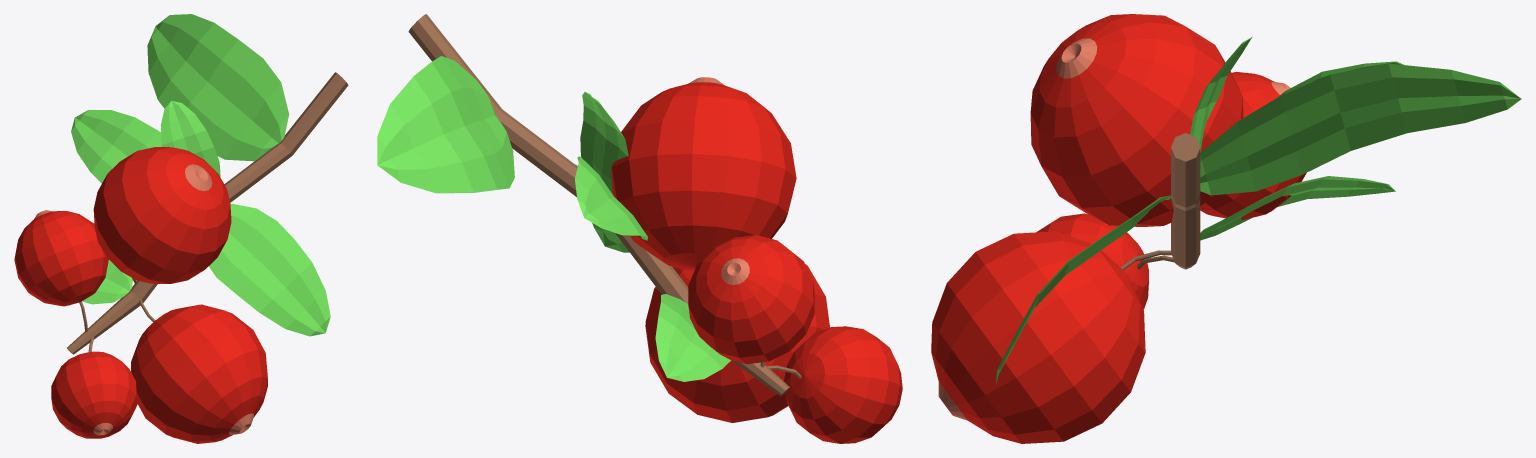
The model's file is Cranberry.fbx.
3 views of the same model, side by side, from view 1: azimuth 30°, elevation 25°; view 2: azimuth 150°, elevation 25°; view 3: azimuth 270°, elevation 25° (orthographic). The views are drawn at different scales.
Parts seen in each view (by area): view 1: Sphere.002, Sphere, Circle.002, Circle.003, Sphere.003, Sphere.001, Cylinder, Circle.005, Circle.004, Circle.006; view 2: Sphere.002, Circle.002, Sphere.003, Sphere.001, Sphere, Cylinder, Circle.006, Circle.004, Circle.005; view 3: Sphere, Sphere.002, Circle.002, Cylinder, Sphere.003, Circle.006, Sphere.001, Circle.003, Circle.004.
Boxes of the visible parts, x1,y1,x2,y2 form: Sphere.002: (93, 147, 231, 283); Sphere: (131, 304, 267, 443); Circle.002: (147, 14, 289, 161); Circle.003: (208, 203, 330, 336); Sphere.003: (14, 210, 108, 306); Sphere.001: (51, 351, 137, 438); Cylinder: (67, 72, 348, 354); Circle.005: (71, 110, 161, 183); Circle.004: (160, 100, 220, 176); Circle.006: (82, 260, 132, 304); Sphere.002: (611, 77, 796, 270); Circle.002: (377, 56, 514, 193); Sphere.003: (688, 235, 814, 364); Sphere.001: (783, 326, 902, 443); Sphere: (645, 264, 829, 422); Cylinder: (408, 14, 789, 396); Circle.006: (655, 294, 730, 381); Circle.004: (580, 92, 628, 194); Circle.005: (575, 156, 647, 240); Sphere: (931, 231, 1145, 443); Sphere.002: (1030, 14, 1243, 226); Circle.002: (1200, 63, 1521, 195); Cylinder: (1171, 133, 1200, 269); Sphere.003: (1200, 72, 1306, 220); Circle.006: (1200, 176, 1395, 240); Sphere.001: (1036, 213, 1148, 309); Circle.003: (995, 195, 1171, 384); Circle.004: (1190, 37, 1252, 152).
Bounding box in the file's own units: 147 × 131 × 149.
